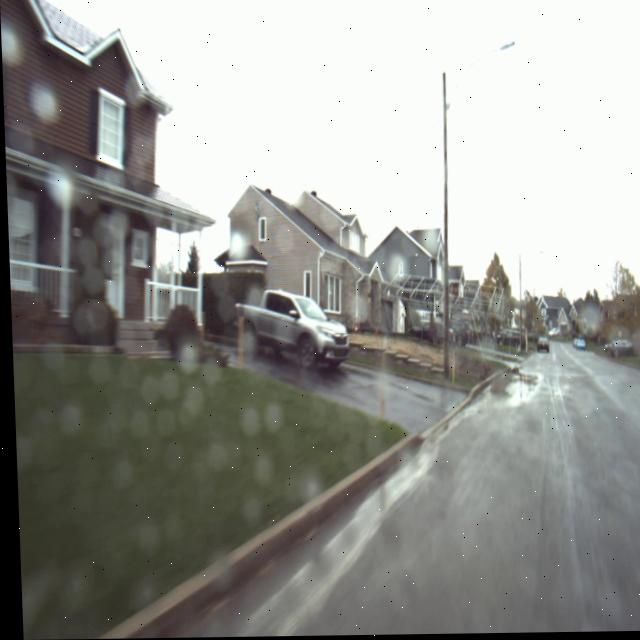car: (225, 287, 355, 371)
